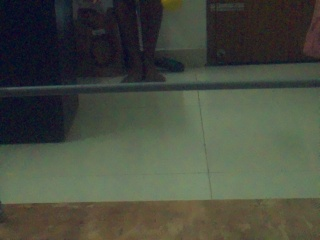ball: (161, 0, 181, 9)
